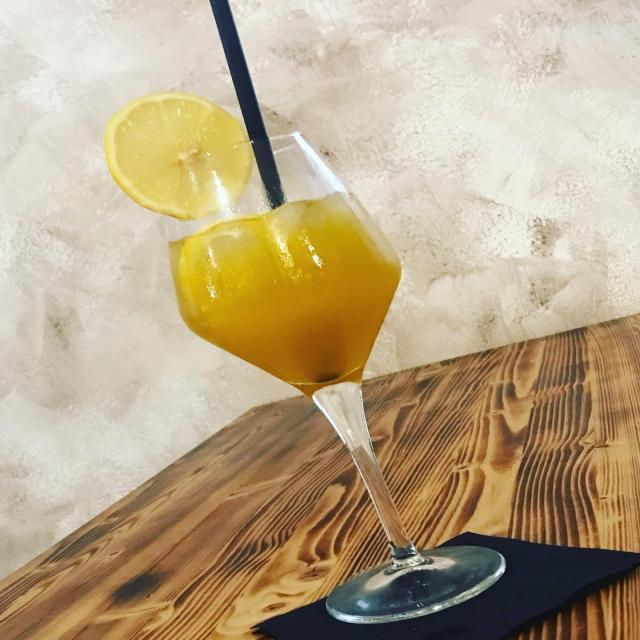glass-wine: (145, 125, 522, 630)
